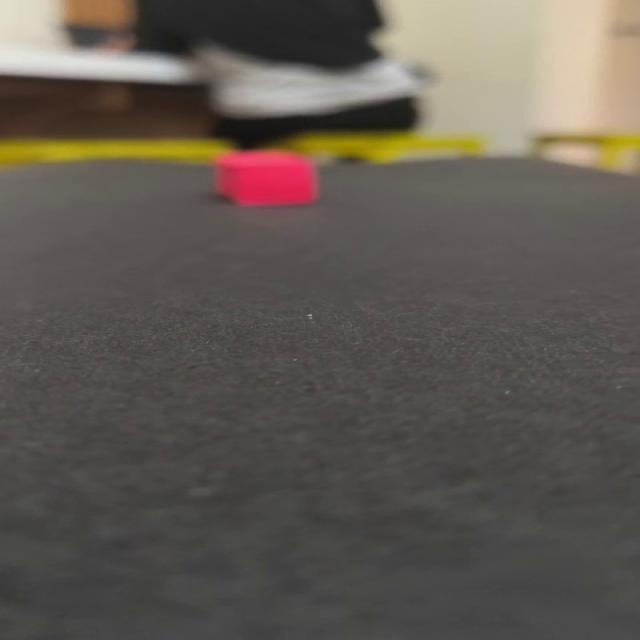red block: (212, 148, 319, 206)
